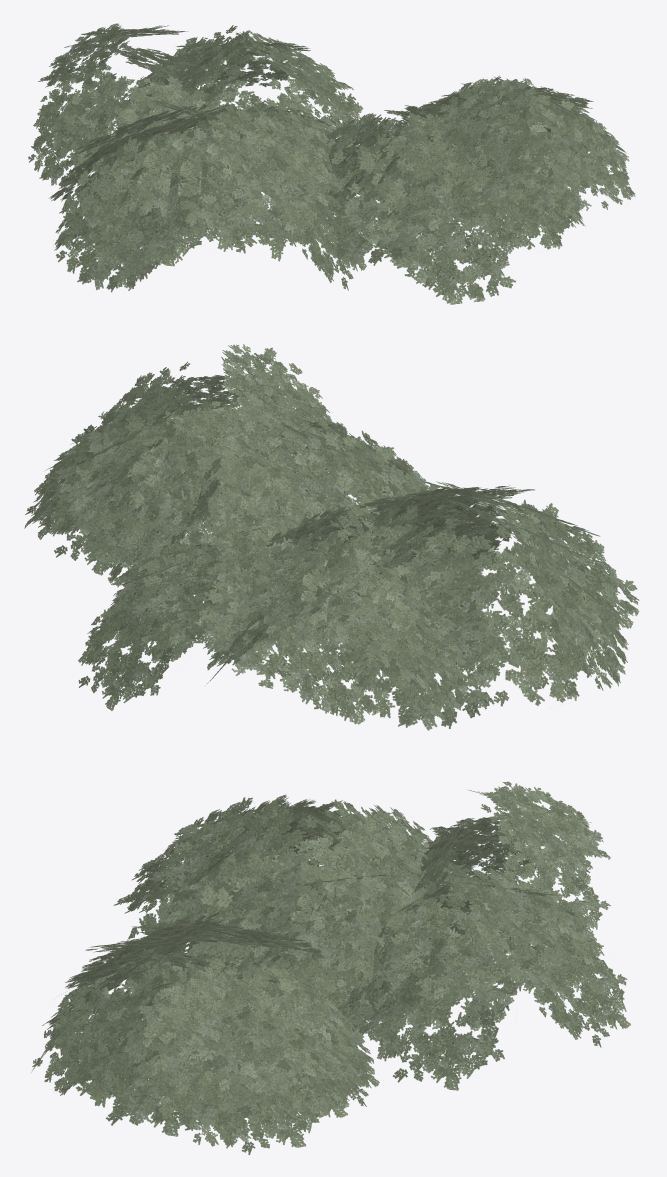
3 renders of one model, top to bottom at view 1: azimuth 30°, elevation 25°; view 2: azimuth 150°, elevation 25°; view 3: azimuth 270°, elevation 25°, orthographic. The views are drawn at different scales.
Visible parts, largest first — view 1: mat_g_lod0_0; view 2: mat_g_lod0_0; view 3: mat_g_lod0_0.
Part boxes in pixels (x1=…): mat_g_lod0_0: x1=28, y1=23, x2=635, y2=304; mat_g_lod0_0: x1=24, y1=344, x2=639, y2=730; mat_g_lod0_0: x1=31, y1=781, x2=630, y2=1154.
Size of what is drawn, in the model's own units: 3.92 by 1.2 by 3.44.
1 material, 1 textured.
